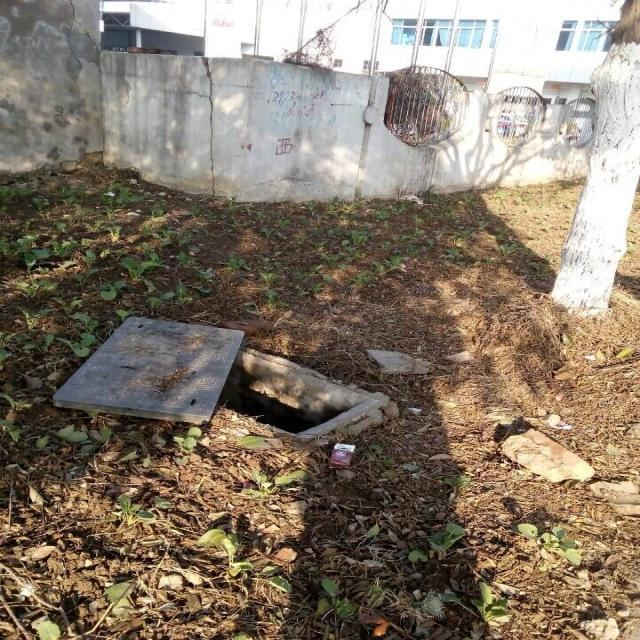Faulty: (48, 313, 383, 448)
